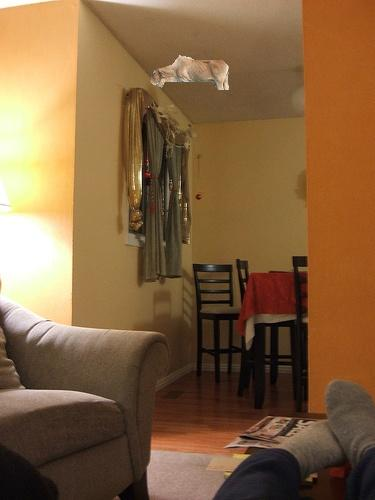tampered: (151, 56, 229, 90)
